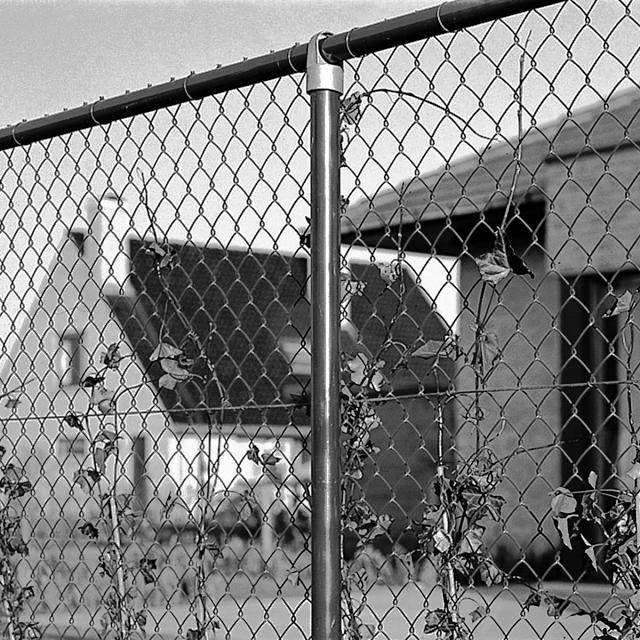fences: (8, 55, 640, 629)
